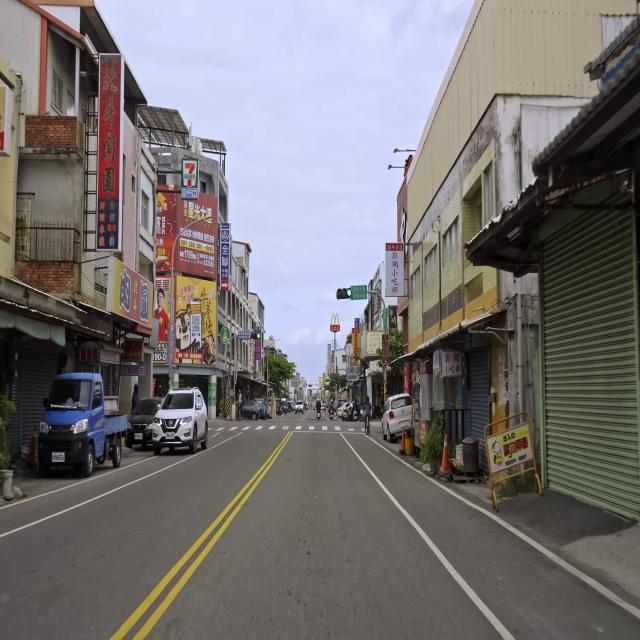green light: (336, 288, 351, 299), (251, 333, 260, 339)
